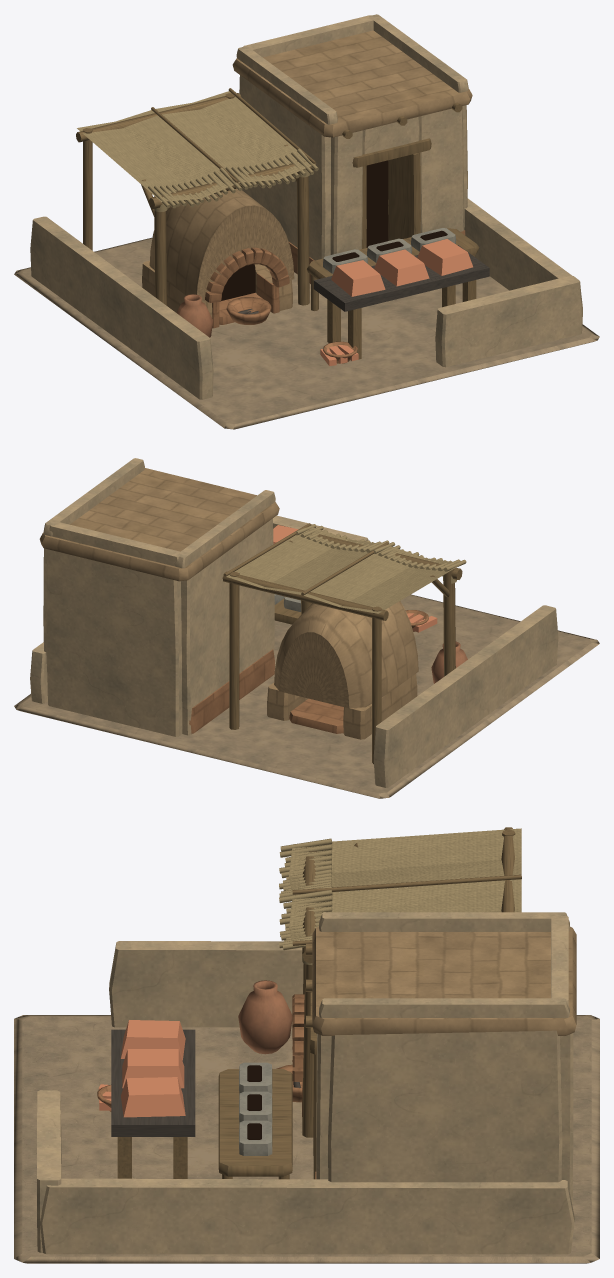
File: coppersmith.glb
The picture shows the model from 3 angles, top to bottom: view 1: azimuth 30°, elevation 25°; view 2: azimuth 150°, elevation 25°; view 3: azimuth 270°, elevation 25°; orthographic projection. The views are drawn at different scales.
Visible parts, largest first — view 1: original-coppersmith-warm-clay-plaster, original-coppersmith-alluvial-earth, original-coppersmith-game-raw-brick-facing, original-coppersmith-reed-mat, original-coppersmith-worn-timber, workshop-coppersmith-courtyard-copper, original-coppersmith-game-fired-brick-facing, original-coppersmith-game-door-shadow, workshop-coppersmith-courtyard-char, original-coppersmith-bank-stone, original-coppersmith-fired-pottery; view 2: original-coppersmith-warm-clay-plaster, original-coppersmith-game-raw-brick-facing, original-coppersmith-alluvial-earth, original-coppersmith-reed-mat, original-coppersmith-worn-timber, original-coppersmith-game-fired-brick-facing, workshop-coppersmith-courtyard-copper, original-coppersmith-fired-pottery; view 3: original-coppersmith-warm-clay-plaster, original-coppersmith-alluvial-earth, original-coppersmith-game-raw-brick-facing, original-coppersmith-reed-mat, original-coppersmith-worn-timber, workshop-coppersmith-courtyard-copper, workshop-coppersmith-courtyard-char, original-coppersmith-fired-pottery, original-coppersmith-bank-stone, original-coppersmith-game-fired-brick-facing, original-coppersmith-game-door-shadow.
Boxes of the visible parts, bbox=[...] form: original-coppersmith-warm-clay-plaster: bbox=[30, 14, 582, 399]; original-coppersmith-alluvial-earth: bbox=[14, 237, 599, 429]; original-coppersmith-game-raw-brick-facing: bbox=[142, 30, 472, 317]; original-coppersmith-reed-mat: bbox=[77, 91, 318, 211]; original-coppersmith-worn-timber: bbox=[76, 88, 479, 359]; workshop-coppersmith-courtyard-copper: bbox=[320, 239, 472, 366]; original-coppersmith-game-fired-brick-facing: bbox=[205, 230, 465, 363]; original-coppersmith-game-door-shadow: bbox=[221, 160, 447, 300]; workshop-coppersmith-courtyard-char: bbox=[238, 245, 489, 314]; original-coppersmith-bank-stone: bbox=[323, 228, 456, 273]; original-coppersmith-fired-pottery: bbox=[176, 294, 213, 337]; original-coppersmith-warm-clay-plaster: bbox=[30, 458, 558, 787]; original-coppersmith-game-raw-brick-facing: bbox=[39, 468, 418, 739]; original-coppersmith-alluvial-earth: bbox=[14, 594, 599, 798]; original-coppersmith-reed-mat: bbox=[226, 524, 466, 613]; original-coppersmith-worn-timber: bbox=[222, 523, 462, 764]; original-coppersmith-game-fired-brick-facing: bbox=[189, 610, 428, 733]; workshop-coppersmith-courtyard-copper: bbox=[273, 525, 437, 632]; original-coppersmith-fired-pottery: bbox=[431, 641, 467, 683]; original-coppersmith-warm-clay-plaster: bbox=[37, 912, 574, 1254]; original-coppersmith-alluvial-earth: bbox=[14, 1015, 599, 1263]; original-coppersmith-game-raw-brick-facing: bbox=[312, 926, 576, 1035]; original-coppersmith-reed-mat: bbox=[279, 828, 521, 964]; original-coppersmith-worn-timber: bbox=[117, 827, 521, 1179]; workshop-coppersmith-courtyard-copper: bbox=[98, 1020, 185, 1117]; workshop-coppersmith-courtyard-char: bbox=[111, 1029, 300, 1136]; original-coppersmith-fired-pottery: bbox=[238, 980, 292, 1054]; original-coppersmith-bank-stone: bbox=[239, 1062, 272, 1155]; original-coppersmith-game-fired-brick-facing: bbox=[97, 994, 316, 1179]; original-coppersmith-game-door-shadow: bbox=[247, 1065, 261, 1139].
Size of the model in its own units: 5.37 by 2.5 by 5.37.
Materials: 11 (9 with a texture image).
